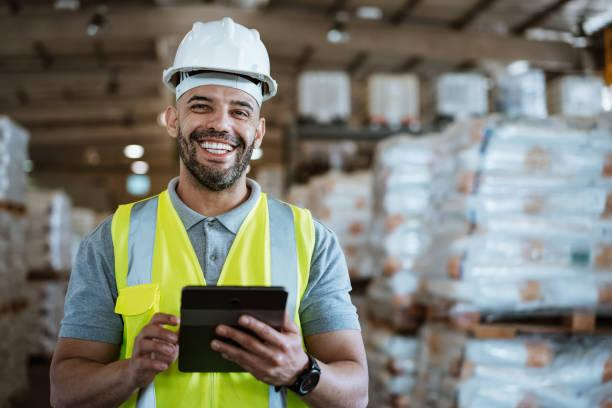capacete: (151, 15, 286, 100)
pessoa: (52, 12, 385, 407)
unifr: (113, 195, 317, 408)
